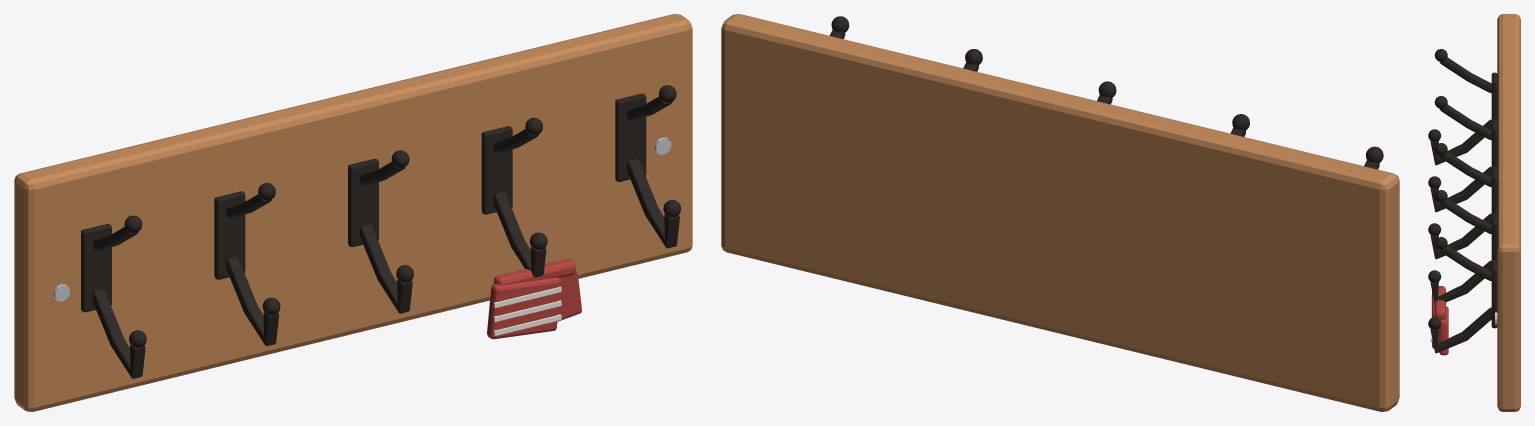
File: hh_cat_coat_rack_office.glb
3 renders of one model, left to right at view 1: azimuth 30°, elevation 25°; view 2: azimuth 150°, elevation 25°; view 3: azimuth 270°, elevation 25°, orthographic. The views are drawn at different scales.
Visible parts, largest first — view 1: backboard, scarf.001, hook_plate.001, hook_plate.003, hook_plate.004, hook_plate.002, hook_plate, hook.002, hook.006, hook.010, hook.018, hook.014 (+2 smaller); view 2: backboard; view 3: backboard, hook.018, hook.014, hook.002, hook.010, hook.006, hook.016, hook, hook.004, hook.008, hook.012, hook_plate.004 (+17 smaller).
Part boxes in pixels (left/top/right/bottom): backboard: left=14, top=14, right=692, bottom=411; scarf.001: left=487, top=277, right=560, bottom=339; hook_plate.001: left=214, top=191, right=245, bottom=279; hook_plate.003: left=481, top=126, right=512, bottom=214; hook_plate.004: left=615, top=93, right=646, bottom=181; hook_plate.002: left=348, top=158, right=378, bottom=247; hook_plate: left=81, top=224, right=111, bottom=312; hook.002: left=92, top=289, right=145, bottom=378; hook.006: left=226, top=256, right=279, bottom=345; hook.010: left=360, top=224, right=412, bottom=313; hook.018: left=627, top=159, right=679, bottom=248; hook.014: left=493, top=191, right=546, bottom=277; backboard: left=721, top=14, right=1399, bottom=411; backboard: left=1497, top=14, right=1520, bottom=411; hook.018: left=1430, top=307, right=1491, bottom=353; hook.014: left=1430, top=260, right=1491, bottom=302; hook.002: left=1430, top=119, right=1491, bottom=165; hook.010: left=1430, top=213, right=1491, bottom=259; hook.006: left=1430, top=166, right=1491, bottom=212; hook.016: left=1439, top=245, right=1491, bottom=280; hook: left=1439, top=57, right=1491, bottom=92; hook.004: left=1439, top=104, right=1491, bottom=139; hook.008: left=1439, top=151, right=1491, bottom=186; hook.012: left=1439, top=198, right=1491, bottom=233; hook_plate.004: left=1491, top=260, right=1497, bottom=328.
Size of the model in its own units: 0.6 by 0.2 by 0.1.
